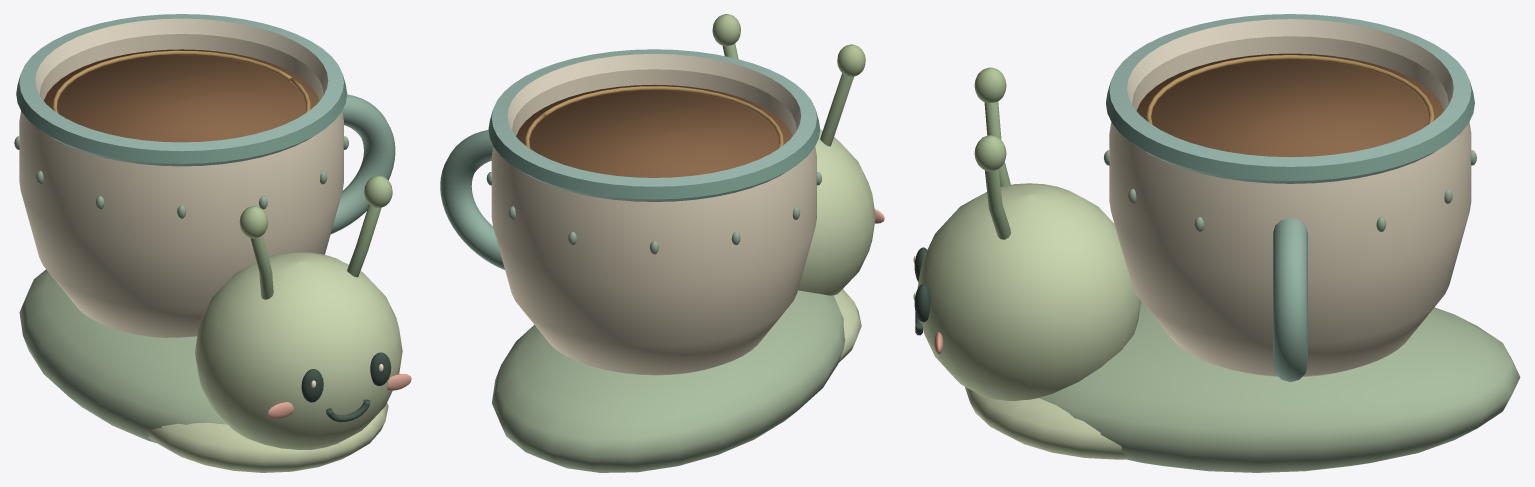
The model's file is teasnail.glb.
3 renders of one model, left to right at view 1: azimuth 30°, elevation 25°; view 2: azimuth 150°, elevation 25°; view 3: azimuth 270°, elevation 25°, orthographic. The views are drawn at different scales.
Parts seen in each view (by area): view 1: Bakery glaze, discovery_Head.001_Mesh, discovery_Motion.001_Mesh, Bakery glaze.008, Bakery glaze.003, Bakery glaze.004, Bakery glaze.002, Bakery glaze.005, Bakery glaze.007, Bakery glaze.009, discovery_Eyes.001_Mesh, Bakery glaze.001; view 2: Bakery glaze, discovery_Motion.001_Mesh, Bakery glaze.008, discovery_Head.001_Mesh, Bakery glaze.003, Bakery glaze.004, Bakery glaze.002, Bakery glaze.005, Bakery glaze.007, Bakery glaze.009, Bakery glaze.001; view 3: Bakery glaze, discovery_Motion.001_Mesh, discovery_Head.001_Mesh, Bakery glaze.008, Bakery glaze.003, Bakery glaze.004, Bakery glaze.005, Bakery glaze.002, Bakery glaze.007, Bakery glaze.009, Bakery glaze.001, discovery_Eyes.001_Mesh.
Boxes of the visible parts, x1,y1,x2,y2 form: Bakery glaze: (19,111,343,337); discovery_Head.001_Mesh: (195,175,411,449); discovery_Motion.001_Mesh: (19,269,388,472); Bakery glaze.008: (43,49,319,142); Bakery glaze.003: (19,14,343,151); Bakery glaze.004: (35,18,328,95); Bakery glaze.002: (16,74,347,163); Bakery glaze.005: (40,34,323,100); Bakery glaze.007: (331,94,395,233); Bakery glaze.009: (52,50,310,113); discovery_Eyes.001_Mesh: (301,352,391,402); Bakery glaze.001: (45,132,319,166); Bakery glaze: (491,146,816,375); discovery_Motion.001_Mesh: (492,289,861,472); Bakery glaze.008: (516,84,792,177); discovery_Head.001_Mesh: (712,14,884,295); Bakery glaze.003: (491,49,816,186); Bakery glaze.004: (507,54,800,131); Bakery glaze.002: (488,110,820,199); Bakery glaze.005: (512,69,796,135); Bakery glaze.007: (440,130,504,269); Bakery glaze.009: (525,86,783,148); Bakery glaze.001: (516,168,791,201); Bakery glaze: (1109,122,1471,376); discovery_Motion.001_Mesh: (965,301,1520,472); discovery_Head.001_Mesh: (915,67,1140,400); Bakery glaze.008: (1136,53,1444,157); Bakery glaze.003: (1109,14,1471,166); Bakery glaze.004: (1127,19,1453,105); Bakery glaze.005: (1132,36,1448,110); Bakery glaze.002: (1106,81,1474,180); Bakery glaze.007: (1273,218,1307,381); Bakery glaze.009: (1146,55,1434,124); Bakery glaze.001: (1135,145,1445,183); discovery_Eyes.001_Mesh: (913,247,930,322).
Size of the model in its own units: 0.888 by 0.752 by 1.17.
